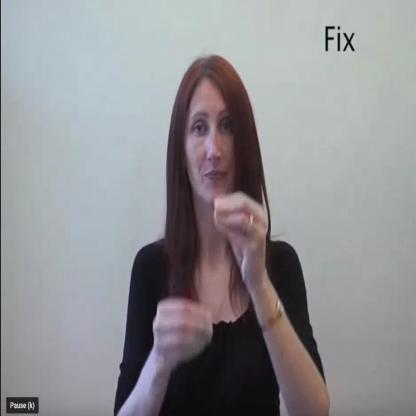Fix: (138, 183, 270, 379)
